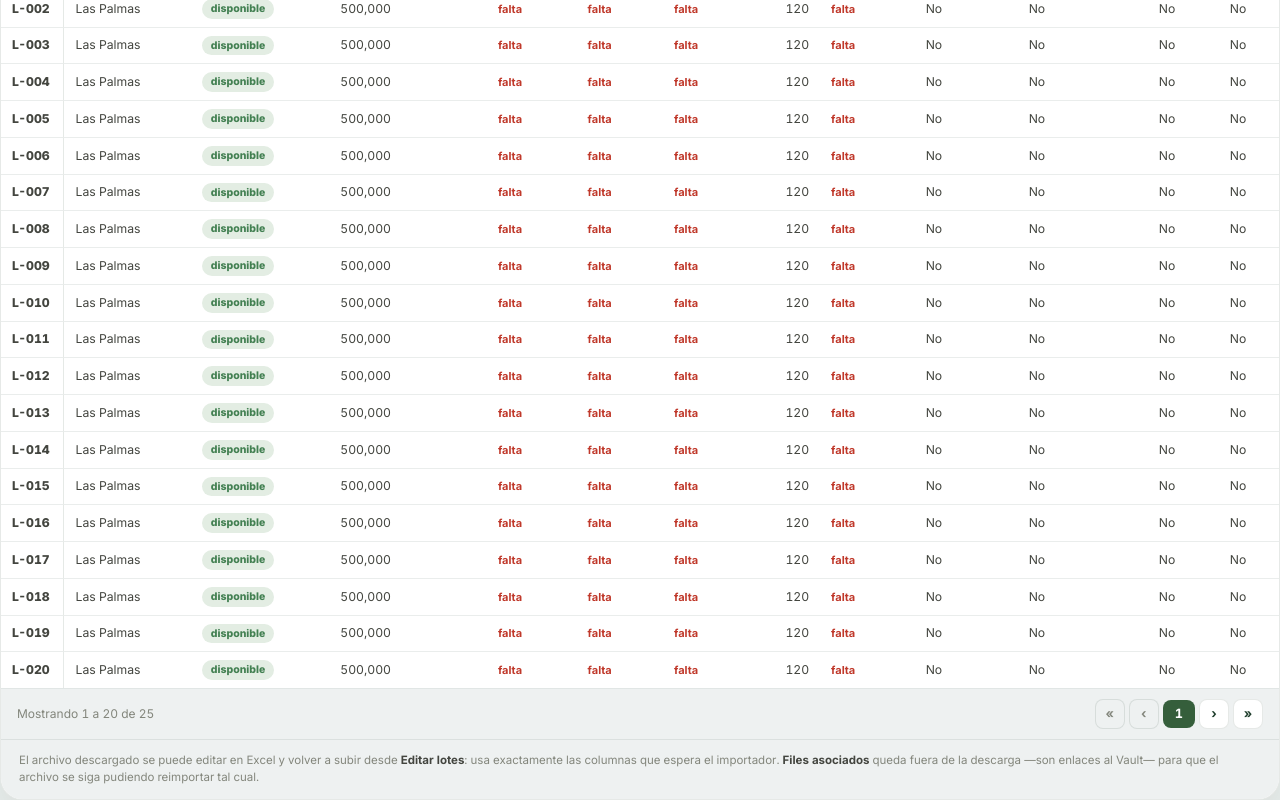
Test: MatrixSheet · paginado › con 25 lotes solo pinta los primeros 20 y deja avanzar a la página 2
(page scrolled)
Check: the text "L-021" is not shown
Check: the text "Mostrando 1 a 20 de 25" is shown, box top-left (17, 705), bottom-right (154, 723)
Click the button "›".
click(1214, 714)  # box top-left (1199, 699), bottom-right (1229, 729)
(page scrolled)
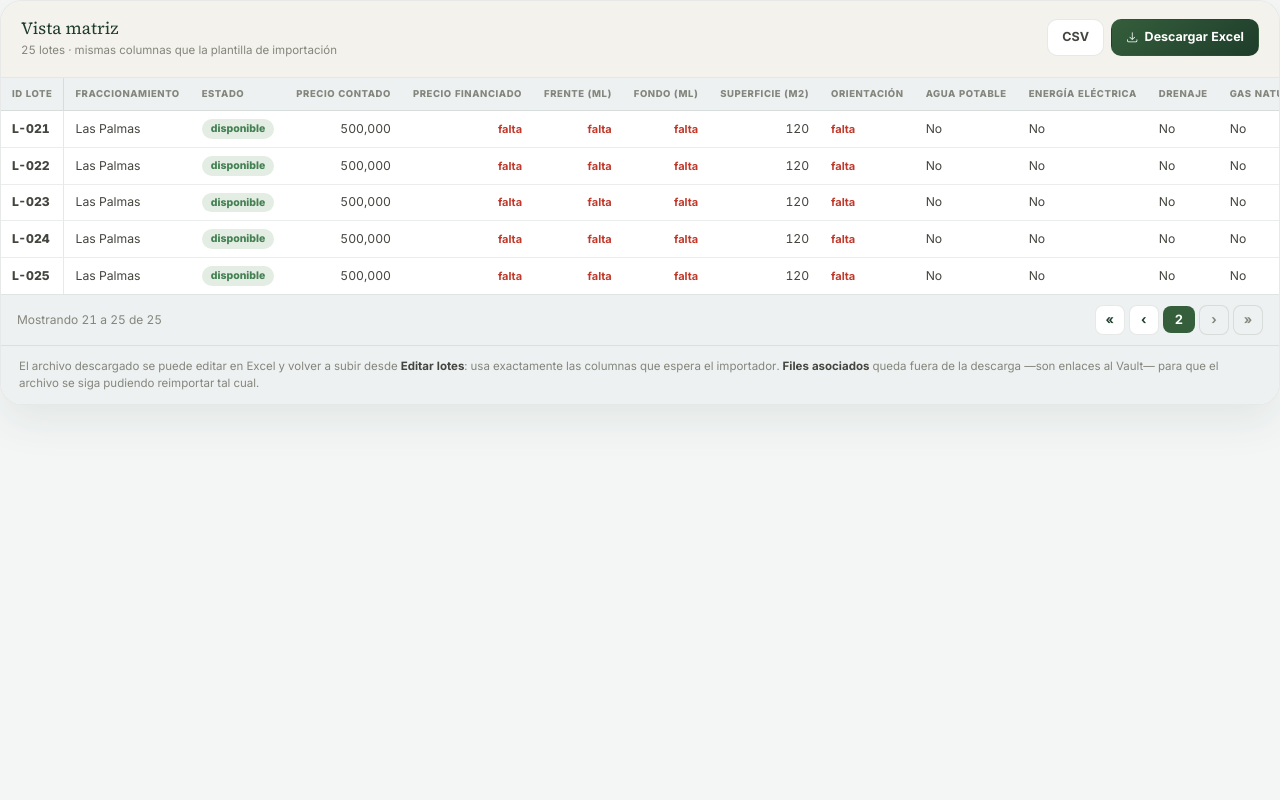
Check: the text "L-021" is shown, box top-left (1, 111), bottom-right (64, 148)
Check: the text "Mostrando 21 a 25 de 25" is shown, box top-left (17, 311), bottom-right (162, 329)
